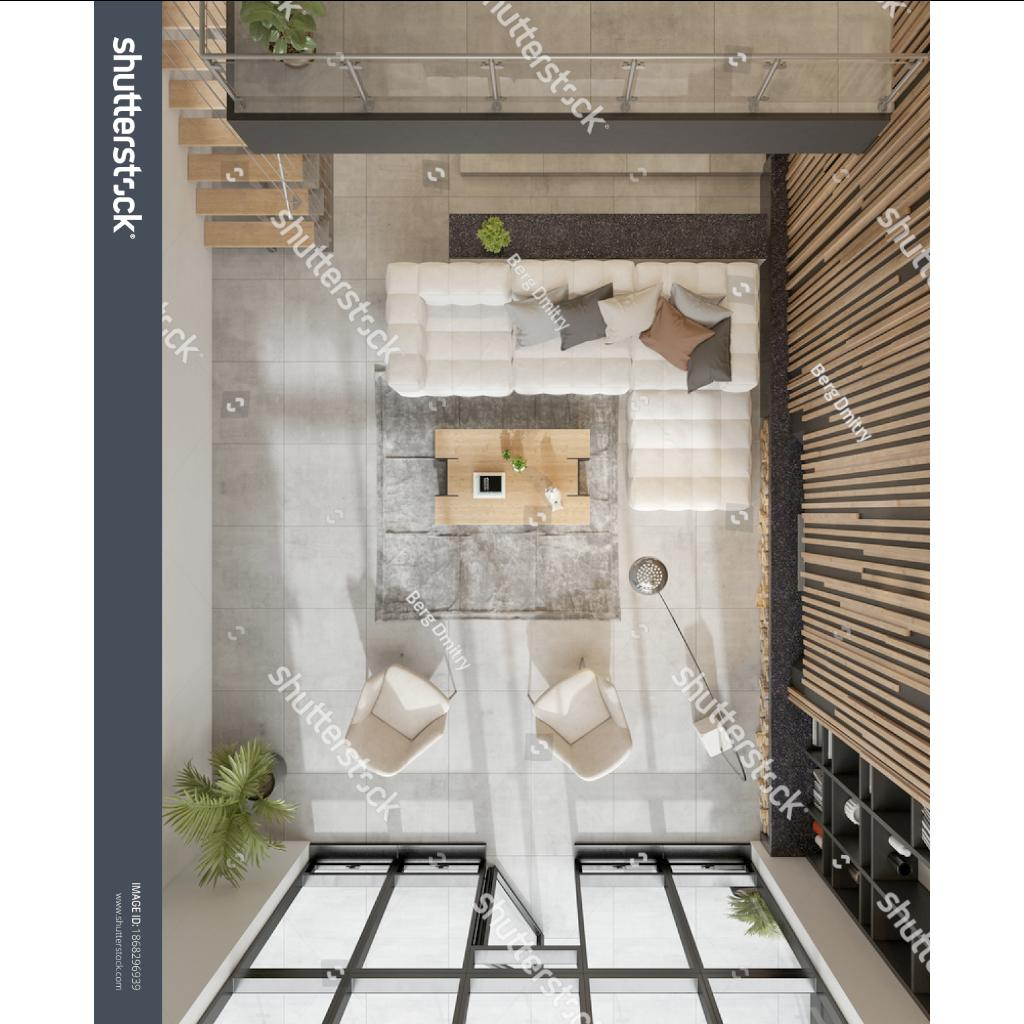bookshelf: (845, 711, 927, 1021)
chair: (345, 666, 449, 774), (532, 670, 634, 780)
coffee table: (434, 428, 592, 524)
floor lamp: (692, 715, 734, 757)
floor plant: (211, 751, 287, 837)
ottoman: (630, 398, 750, 510)
rug: (374, 369, 622, 621)
side table: (448, 212, 766, 256)
sofa: (388, 262, 760, 394)
window: (187, 994, 455, 1022), (590, 994, 840, 1020), (462, 994, 586, 1020)
